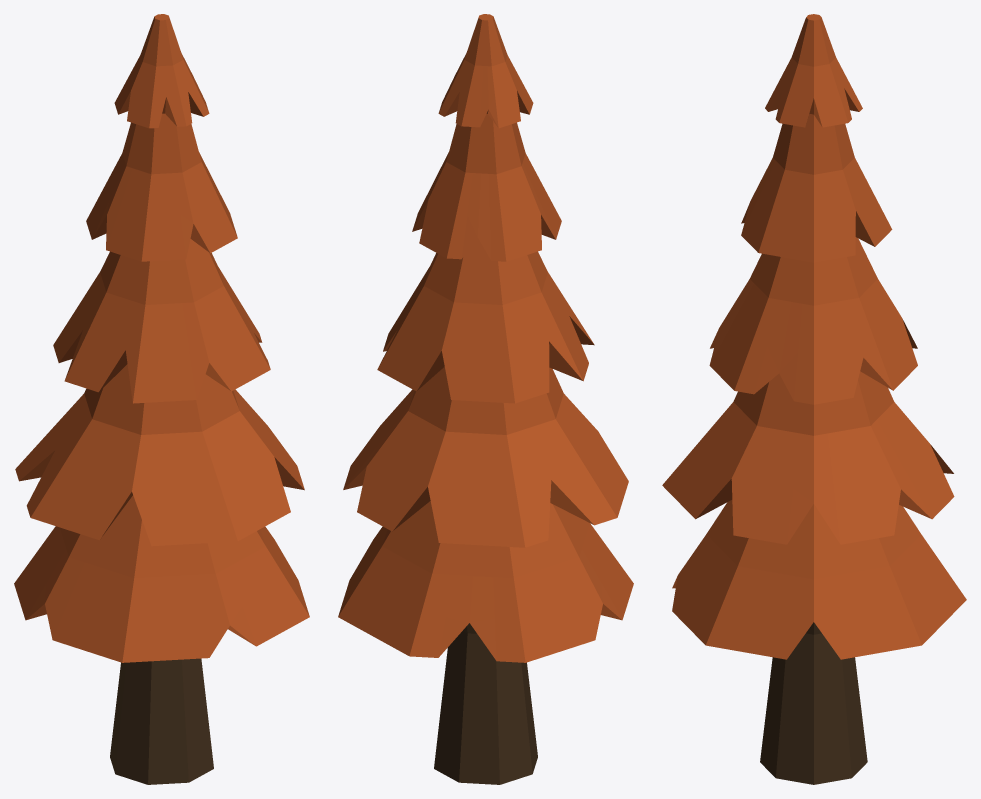
The model's file is Tree 2.fbx.
The picture shows the model from 3 angles, left to right: view 1: azimuth 30°, elevation 25°; view 2: azimuth 150°, elevation 25°; view 3: azimuth 270°, elevation 25°; orthographic projection.
Visible parts, largest first — view 1: Cone.001; view 2: Cone.001; view 3: Cone.001.
Boxes of the visible parts, x1=… form: Cone.001: x1=14, y1=14, x2=309, y2=784; Cone.001: x1=338, y1=14, x2=633, y2=784; Cone.001: x1=662, y1=14, x2=966, y2=784.
Bounding box in the file's own units: 77.88 × 218 × 80.85.
